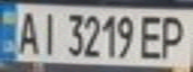1: (100, 11, 118, 58)
2: (81, 10, 103, 58)
3: (60, 9, 84, 57)
9: (115, 11, 139, 60)
A: (12, 7, 42, 55)
E: (136, 11, 166, 60)
I: (36, 8, 60, 56)
P: (157, 11, 190, 60)
